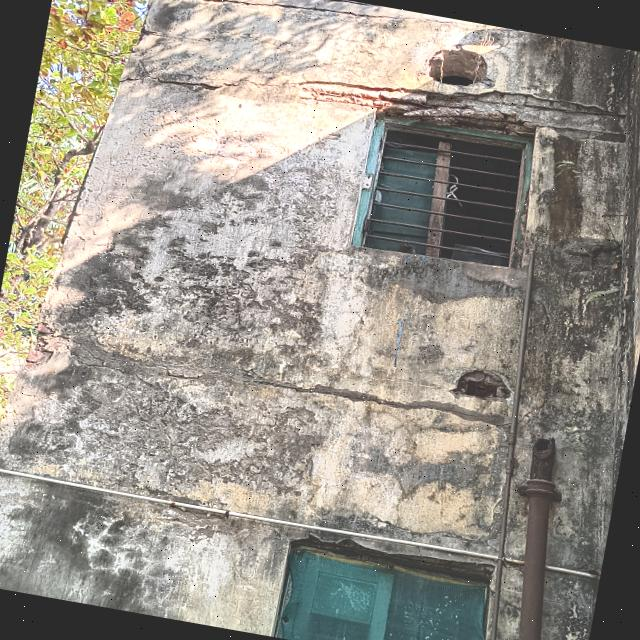Crack: (158, 0, 535, 34), (115, 58, 308, 95)
Scaling: (0, 32, 640, 640)
Spalling: (288, 531, 498, 583), (369, 99, 541, 139), (9, 312, 57, 374)
pollution -moisture induced blackening: (0, 32, 640, 640)
